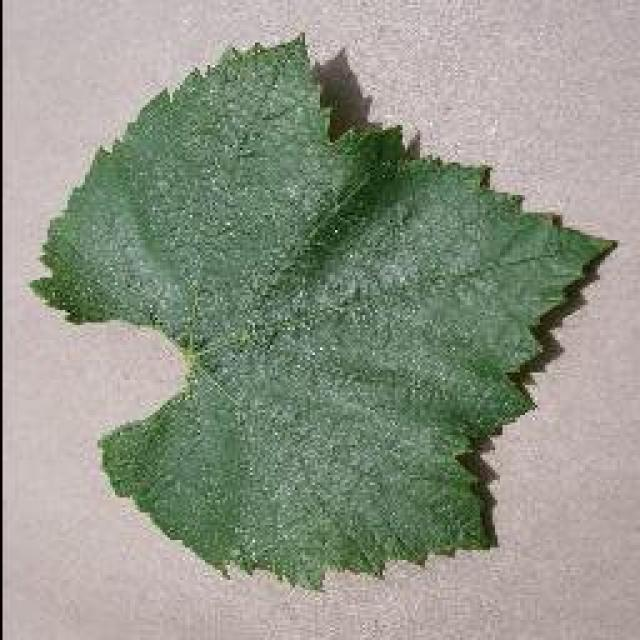Grape___healthy: (32, 38, 608, 585)
